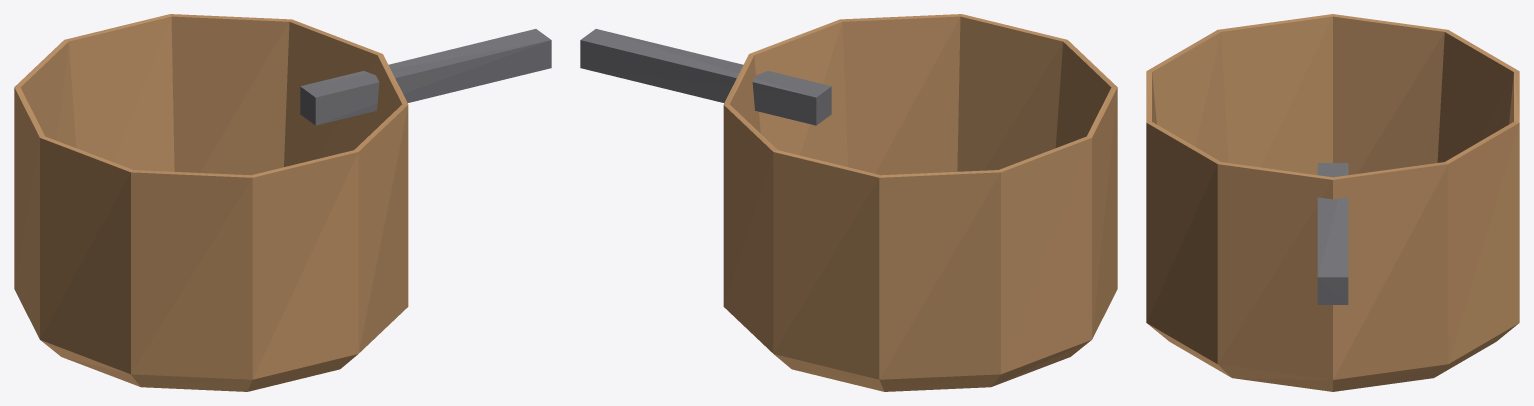
The model's file is pot_hang.glb.
3 renders of one model, left to right at view 1: azimuth 30°, elevation 25°; view 2: azimuth 150°, elevation 25°; view 3: azimuth 270°, elevation 25°, orthographic.
Parts seen in each view (by area): view 1: pot_hang; view 2: pot_hang; view 3: pot_hang.
Part boxes in pixels (x1,y1,x2,y2): pot_hang: (14,14,551,391); pot_hang: (580,14,1117,391); pot_hang: (1146,14,1519,391).
Bounding box in the file's own units: 0.47 × 0.2 × 0.3043.
